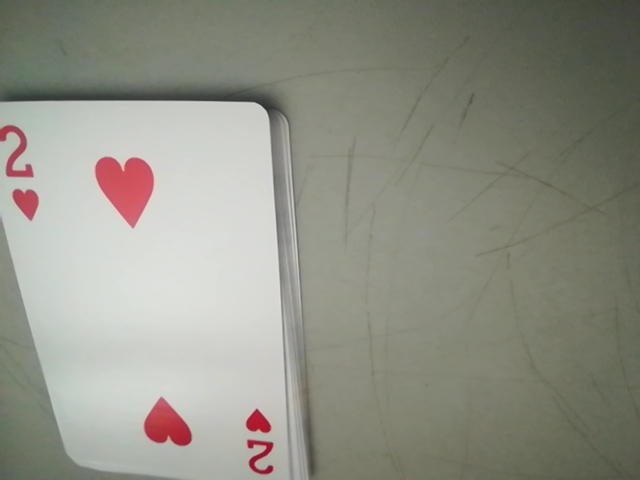hx 2: (1, 125, 45, 223), (238, 406, 283, 480)
